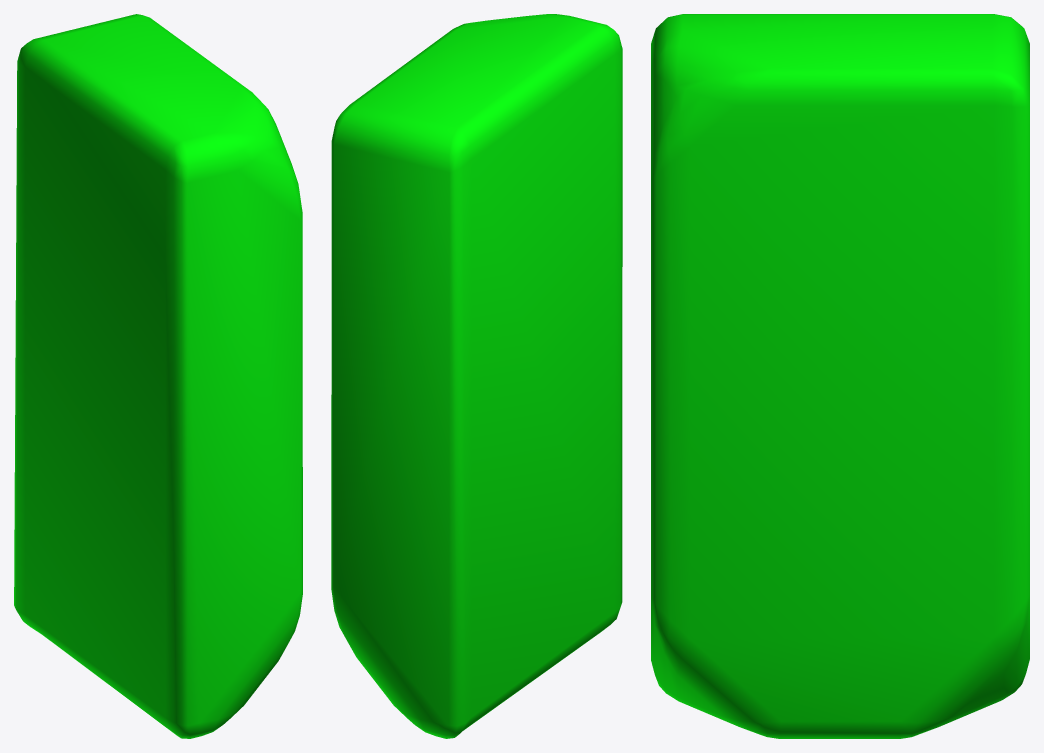
Rendered from Green_Crystal_07.fbx.
The picture shows the model from 3 angles, left to right: view 1: azimuth 30°, elevation 25°; view 2: azimuth 150°, elevation 25°; view 3: azimuth 270°, elevation 25°; orthographic projection. The views are drawn at different scales.
Visible parts, largest first — view 1: Green_Crystal_07; view 2: Green_Crystal_07; view 3: Green_Crystal_07.
Part boxes in pixels (bbox=[...]): Green_Crystal_07: bbox=[14, 14, 302, 738]; Green_Crystal_07: bbox=[331, 14, 622, 738]; Green_Crystal_07: bbox=[651, 14, 1029, 738].
Size of the model in its own units: 0.24 by 1.04 by 0.5289.
